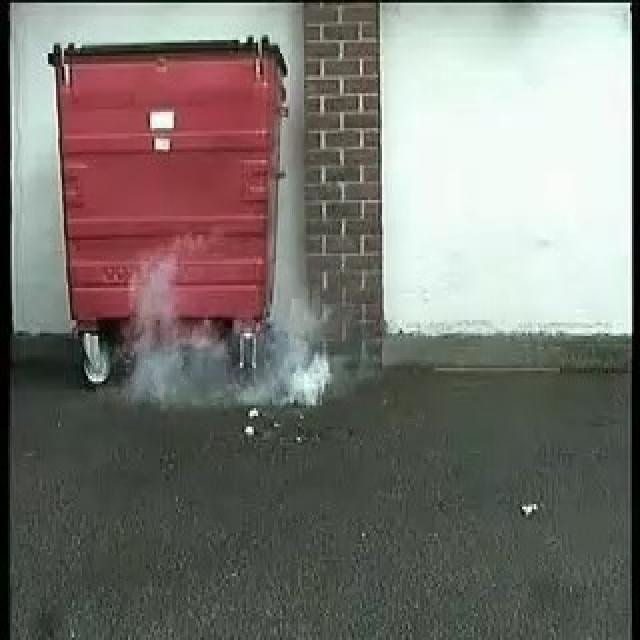smoke: (124, 304, 324, 403)
